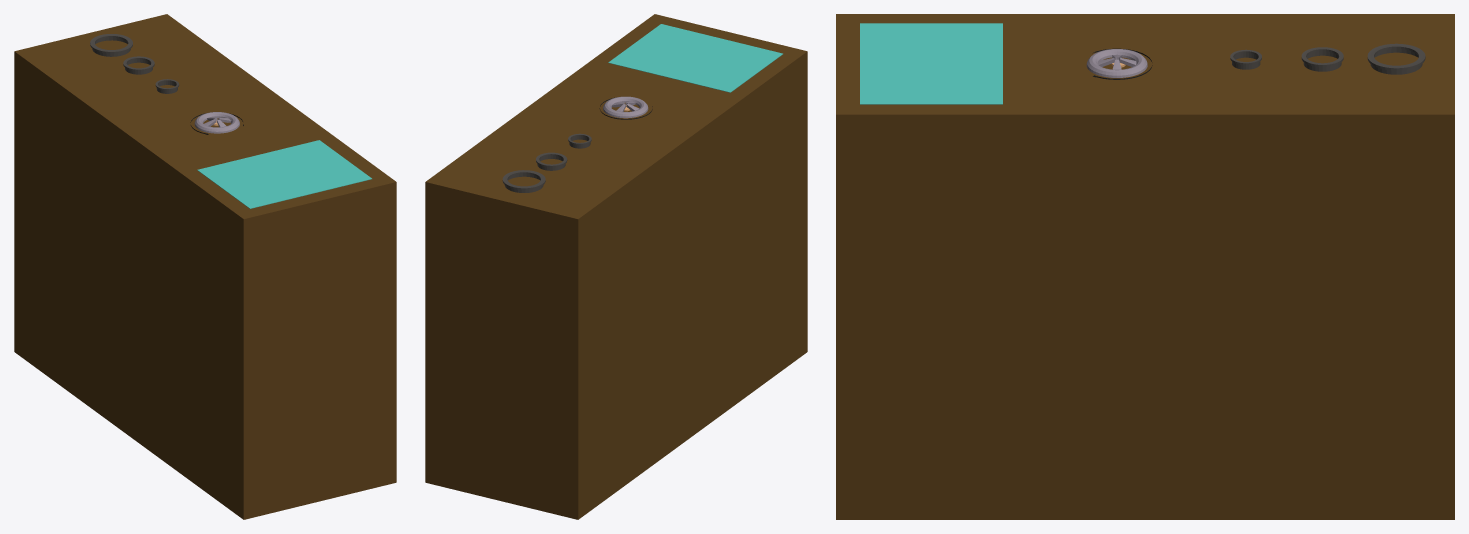
File: CajaEco.glb
3 renders of one model, left to right at view 1: azimuth 30°, elevation 25°; view 2: azimuth 150°, elevation 25°; view 3: azimuth 270°, elevation 25°, orthographic. The views are drawn at different scales.
Parts seen in each view (by area): view 1: caja, Cube, Torus, Cylinder; view 2: caja, Cube, Torus, Cylinder; view 3: caja, Cube, Torus, Cylinder, Cylinder.001.
Boxes of the visible parts, x1=… form: caja: x1=14, y1=14, x2=396, y2=519; Cube: x1=197, y1=140, x2=371, y2=208; Torus: x1=194, y1=112, x2=239, y2=133; Cylinder: x1=90, y1=34, x2=132, y2=56; caja: x1=425, y1=14, x2=807, y2=519; Cube: x1=608, y1=24, x2=782, y2=92; Torus: x1=603, y1=96, x2=648, y2=118; Cylinder: x1=502, y1=170, x2=545, y2=192; caja: x1=836, y1=14, x2=1454, y2=519; Cube: x1=860, y1=23, x2=1002, y2=104; Torus: x1=1086, y1=49, x2=1147, y2=77; Cylinder: x1=1367, y1=43, x2=1425, y2=74; Cylinder.001: x1=1301, y1=47, x2=1343, y2=71.
Size of the model in its own units: 0.5 by 0.9579 by 1.3.
